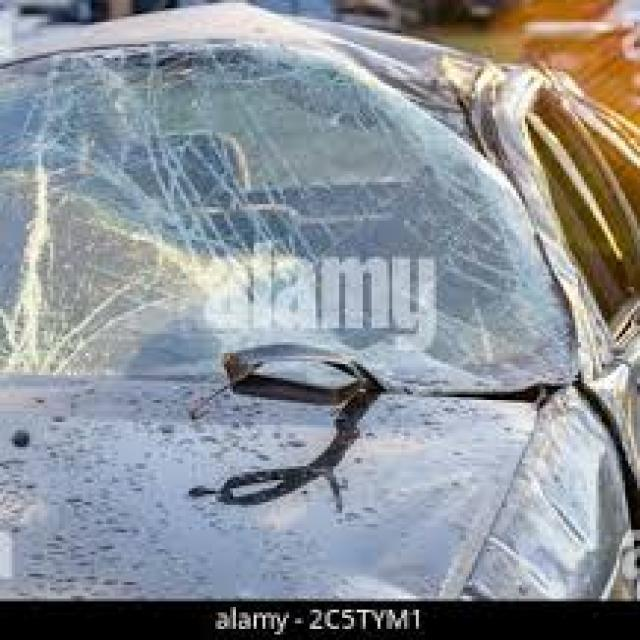damaged-windscreen: (1, 64, 570, 382)
